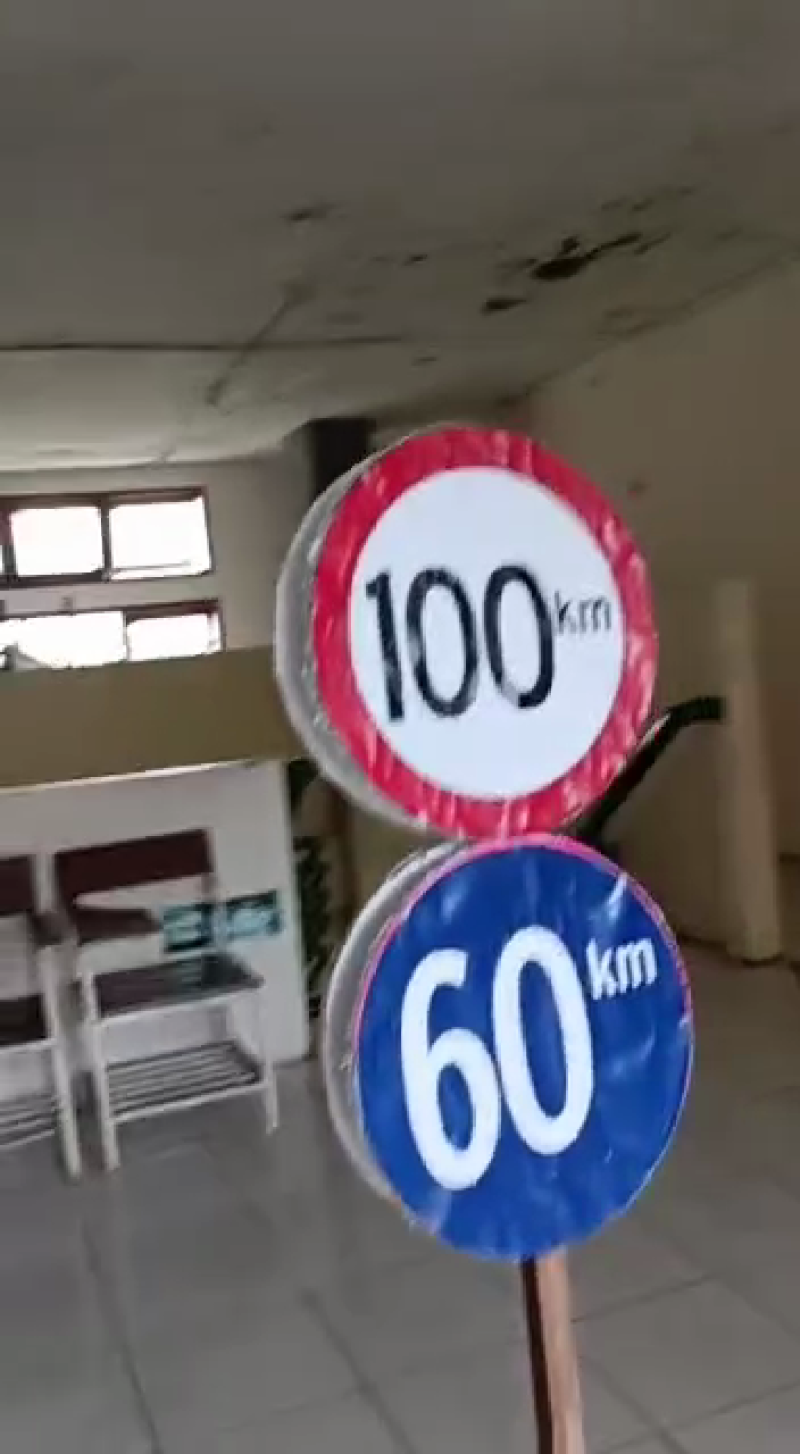batas maksimal 100kmperjam minimal 60kmperjam: (294, 406, 708, 1263)
